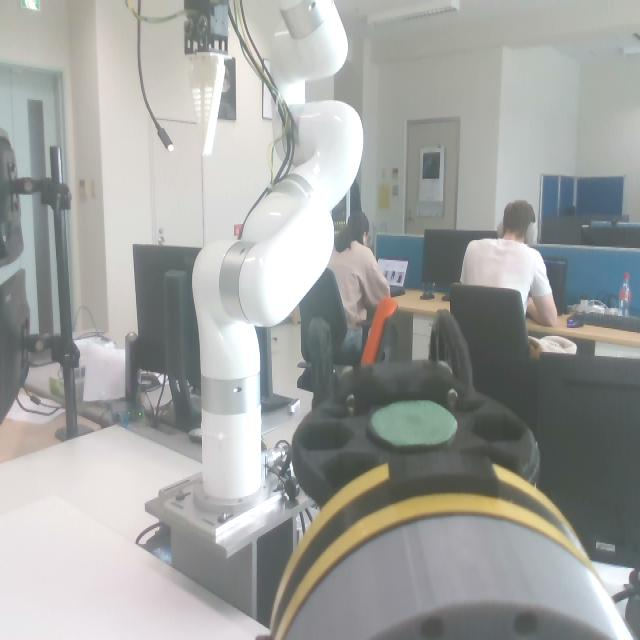body_connector: (280, 516, 639, 640)
connection: (262, 456, 636, 640)
leg: (258, 309, 593, 640)
leg_connector: (263, 452, 601, 640)
marker: (370, 400, 458, 447)
